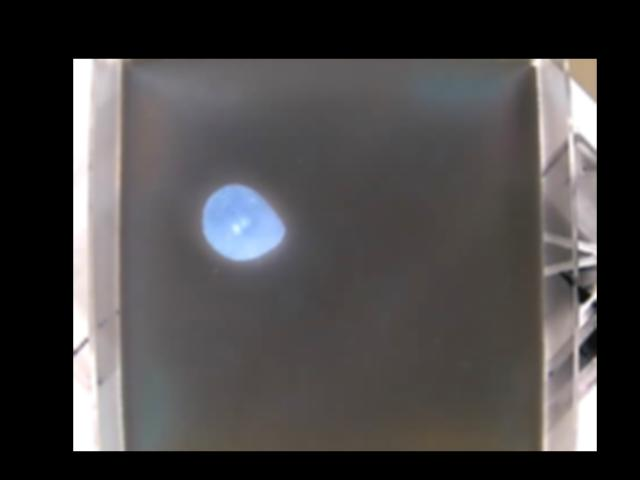Potato: (202, 184, 285, 259)
